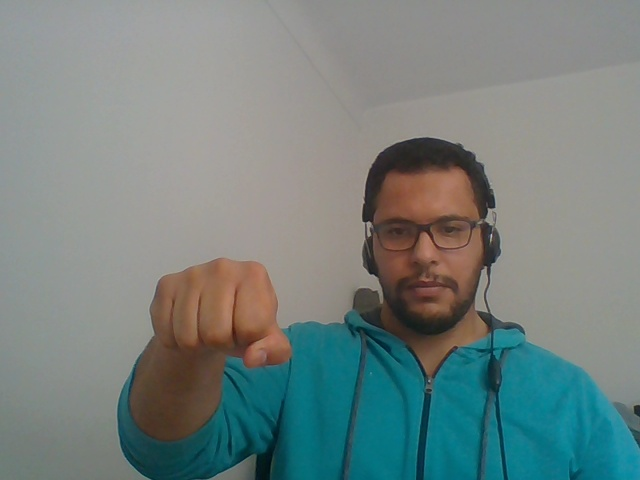yes: (129, 233, 300, 422)
